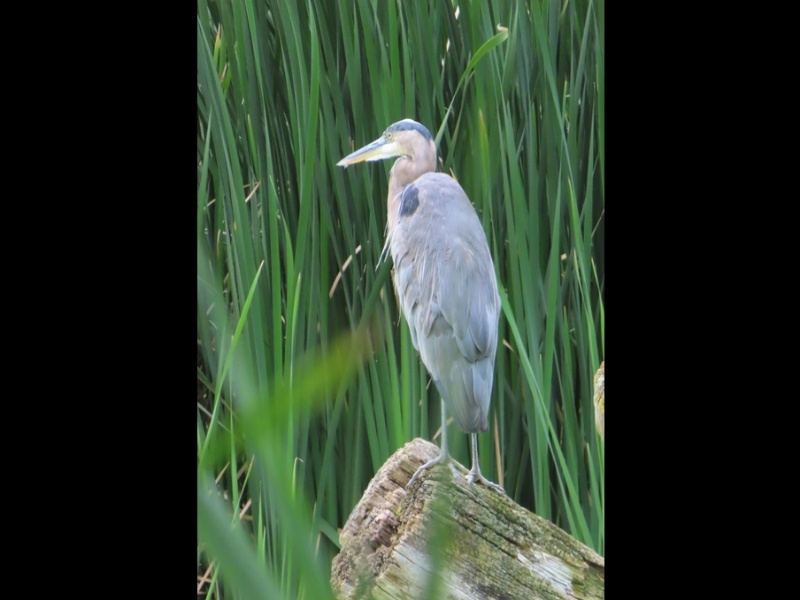heron: (329, 115, 517, 491)
